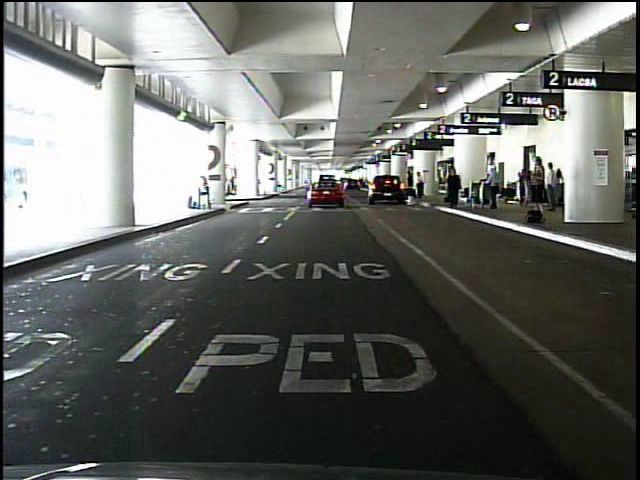person: (528, 154, 550, 212), (488, 163, 503, 212), (545, 162, 559, 213), (447, 168, 463, 209), (197, 173, 213, 212), (405, 171, 417, 206), (445, 166, 456, 204), (416, 170, 427, 199)
